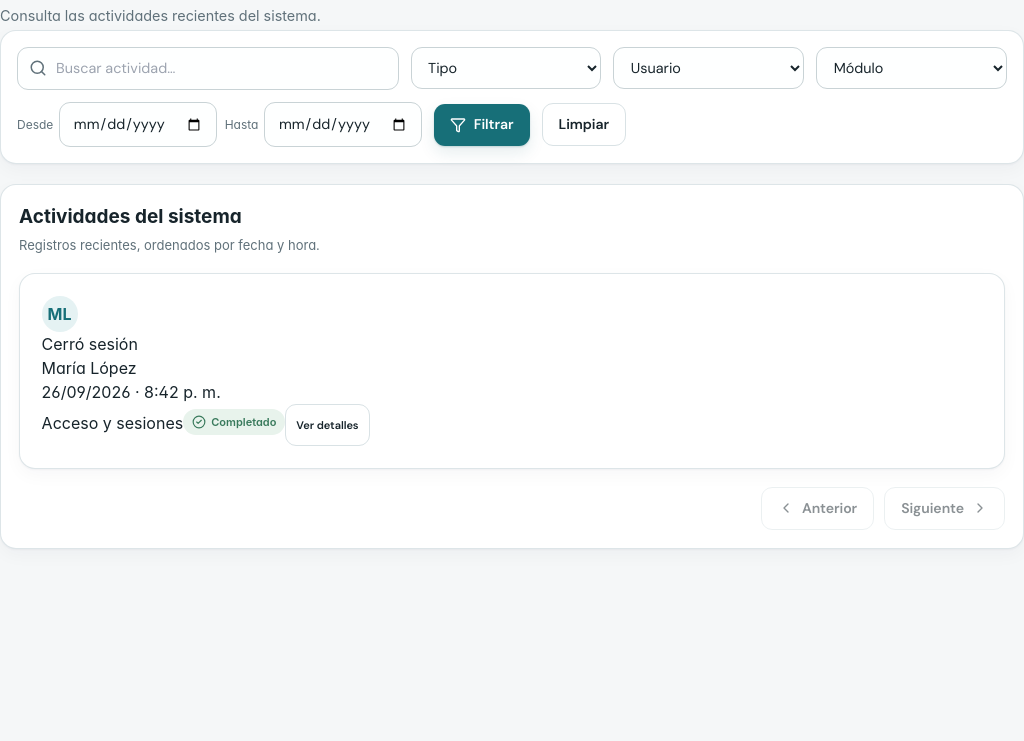
Scenario: logout guardado como estado conserva título, módulo, categoría y resultado en móvil y detalle
Expected: the text "Acceso y sesiones" is shown, top-left (42, 413), bottom-right (183, 433)
Expected: the text "Completado" is shown, top-left (183, 408), bottom-right (285, 435)
Click the button "Ver detalles" at (328, 425), box top-left (285, 404), bottom-right (370, 446)
(page scrolled)
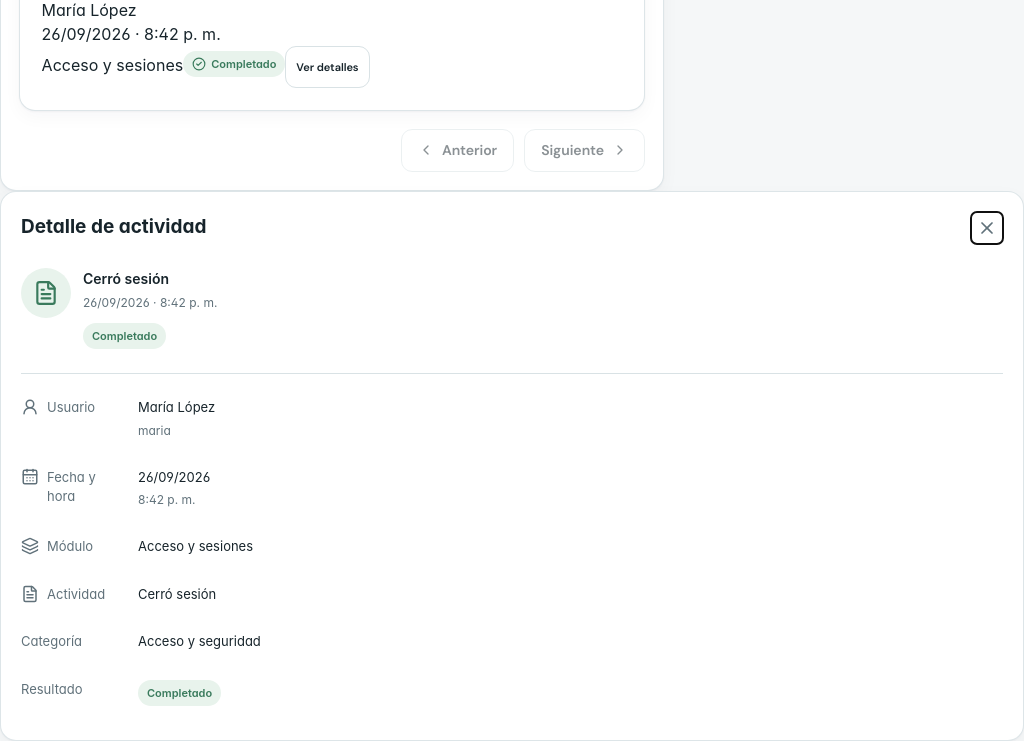
Expected: the heading "Cerró sesión" below "Detalle de actividad" is shown, top-left (83, 270), bottom-right (169, 286)
Expected: the text "Acceso y sesiones" next to "Módulo" is shown, top-left (138, 538), bottom-right (253, 554)
Expected: the text "Acceso y seguridad" is shown, top-left (138, 633), bottom-right (261, 649)
